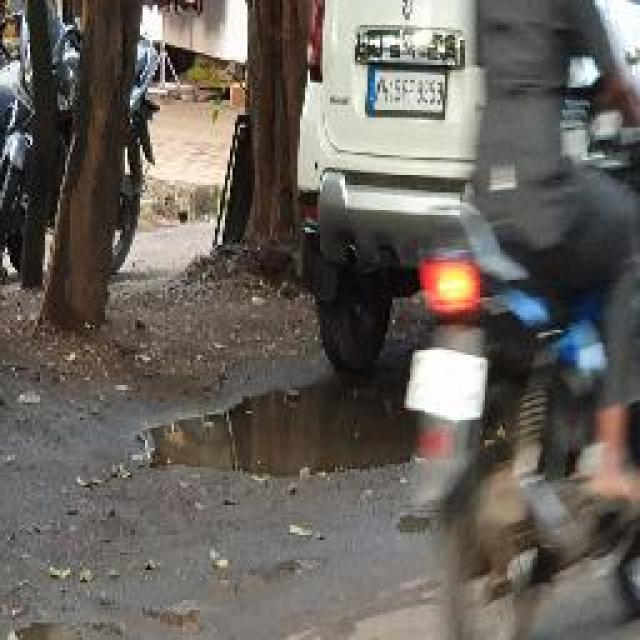puddle: (149, 383, 427, 480)
